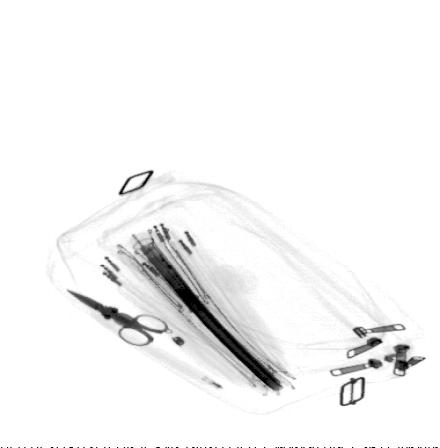Scissors: (64, 287, 171, 348)
